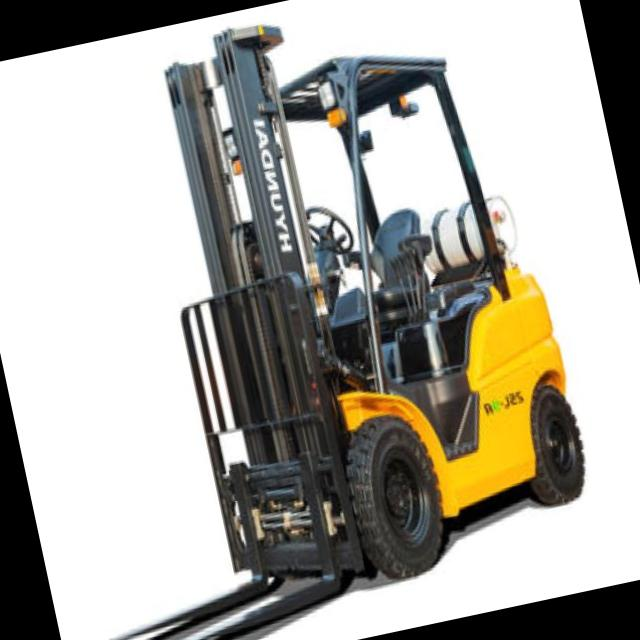forklift: (113, 0, 622, 629)
